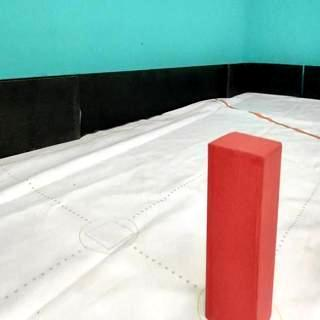redbox: (206, 130, 282, 320)
